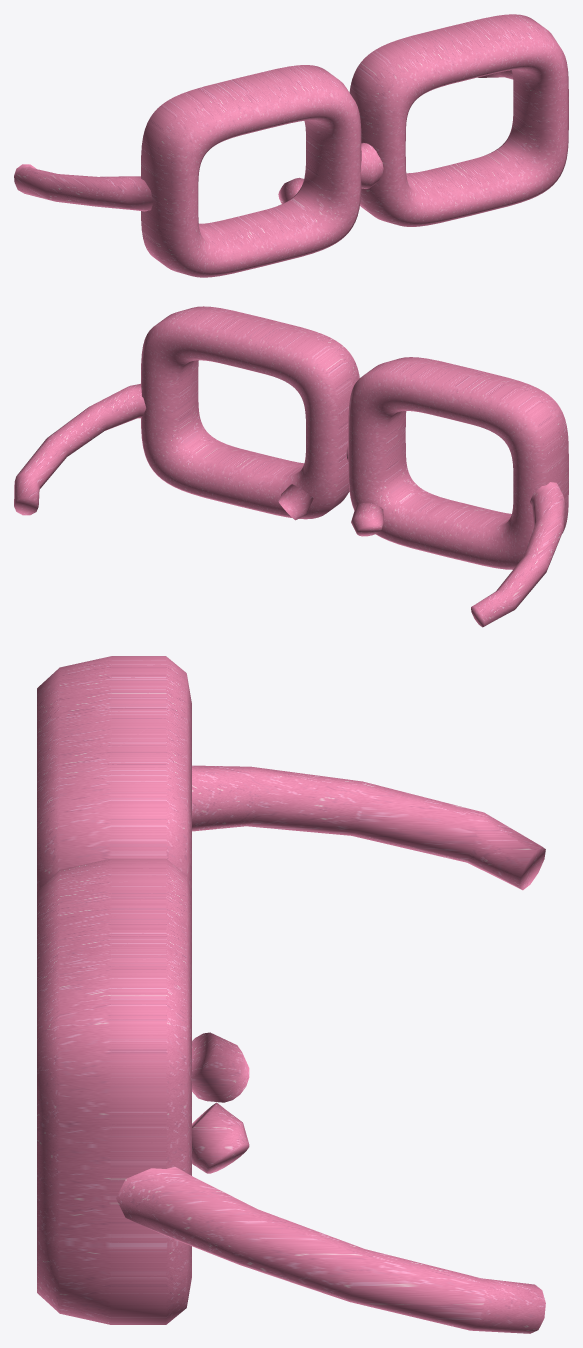
The model's file is furry_glasses_lod_c.glb.
3 views of the same model, one above another, from view 1: azimuth 30°, elevation 25°; view 2: azimuth 150°, elevation 25°; view 3: azimuth 270°, elevation 25° (orthographic). The views are drawn at different scales.
Parts seen in each view (by area): view 1: FurryGlasses_EyeCenter_Pivot; view 2: FurryGlasses_EyeCenter_Pivot; view 3: FurryGlasses_EyeCenter_Pivot.
Boxes of the visible parts, x1,y1,x2,y2 form: FurryGlasses_EyeCenter_Pivot: [14, 14, 568, 277]; FurryGlasses_EyeCenter_Pivot: [14, 306, 568, 627]; FurryGlasses_EyeCenter_Pivot: [37, 656, 545, 1333].
Size of the model in its own units: 1.12 by 0.37 by 0.4929.
Materials: 1 (1 with a texture image).
